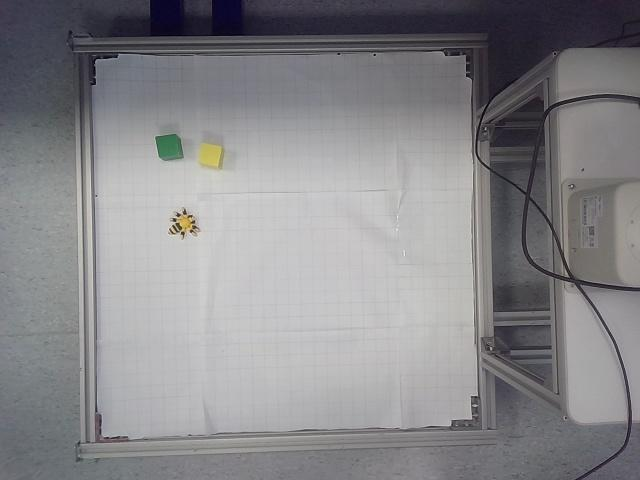frelon: (168, 207, 201, 240)
